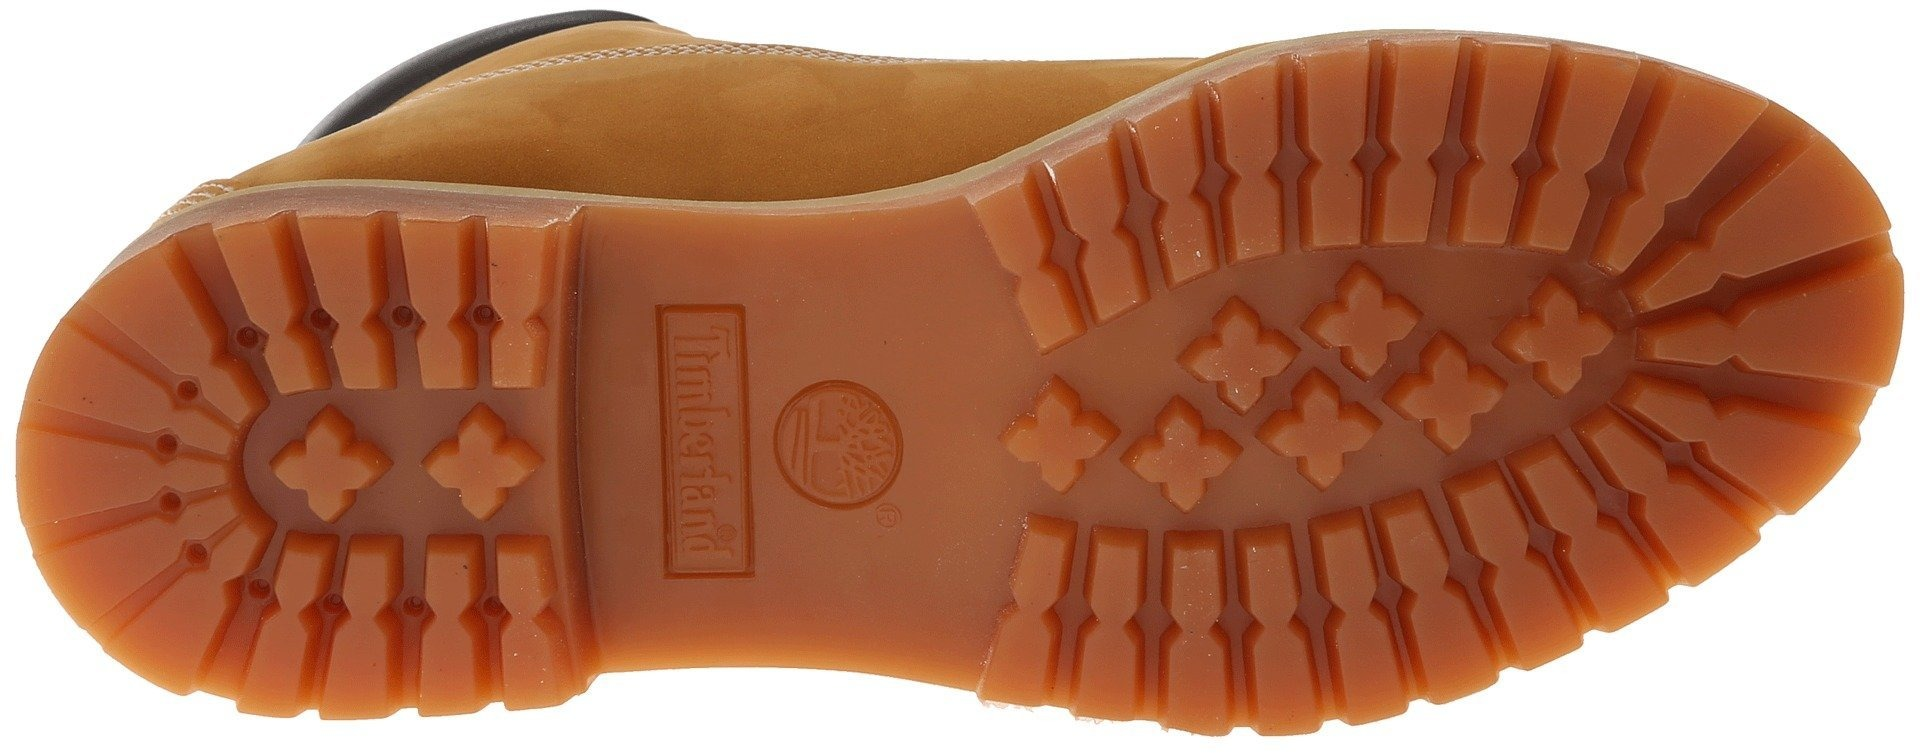bowtie: (1613, 209, 1888, 462), (1422, 463, 1626, 660), (1313, 48, 1490, 257), (1167, 518, 1351, 699)
star: (1201, 285, 1407, 500), (1420, 266, 1584, 431), (1016, 358, 1191, 508), (405, 398, 549, 534), (269, 408, 382, 533)
text: (636, 320, 893, 556)
